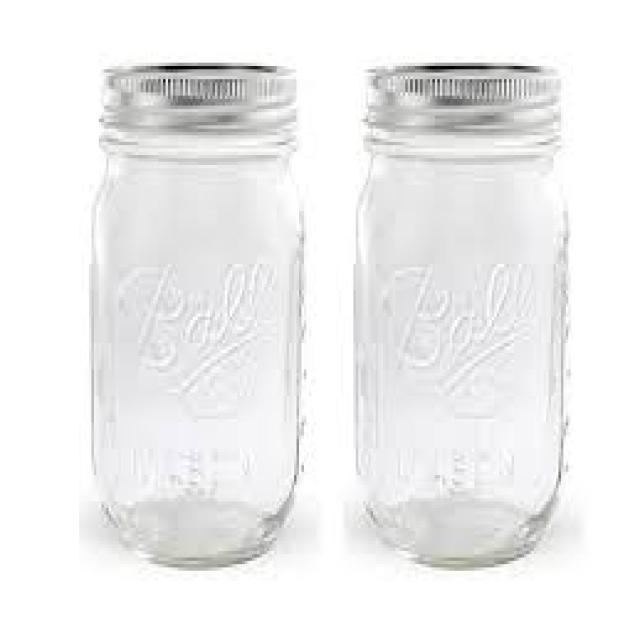glass: (351, 122, 563, 564), (89, 129, 299, 564)
metal: (99, 63, 291, 122), (363, 63, 556, 119)
